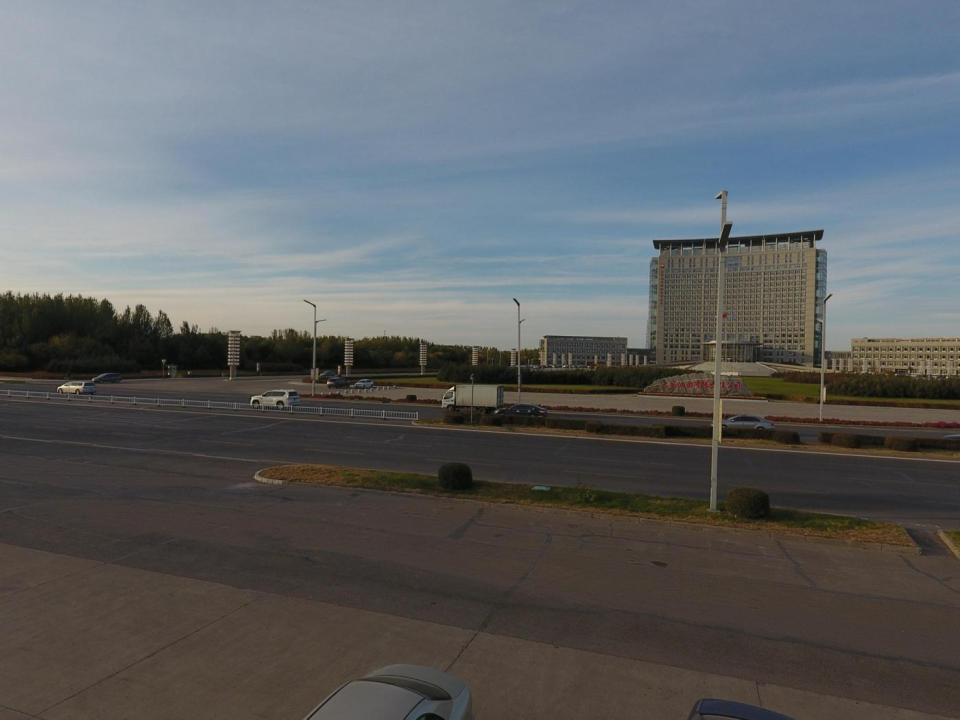car: (302, 662, 471, 720), (710, 414, 776, 437), (250, 389, 300, 411), (493, 404, 548, 422), (354, 378, 374, 390), (319, 370, 337, 377)
truck: (441, 384, 504, 413)
van: (57, 380, 98, 395), (92, 372, 123, 383), (326, 376, 351, 389)
